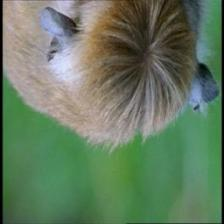monkey: (30, 1, 221, 156)
